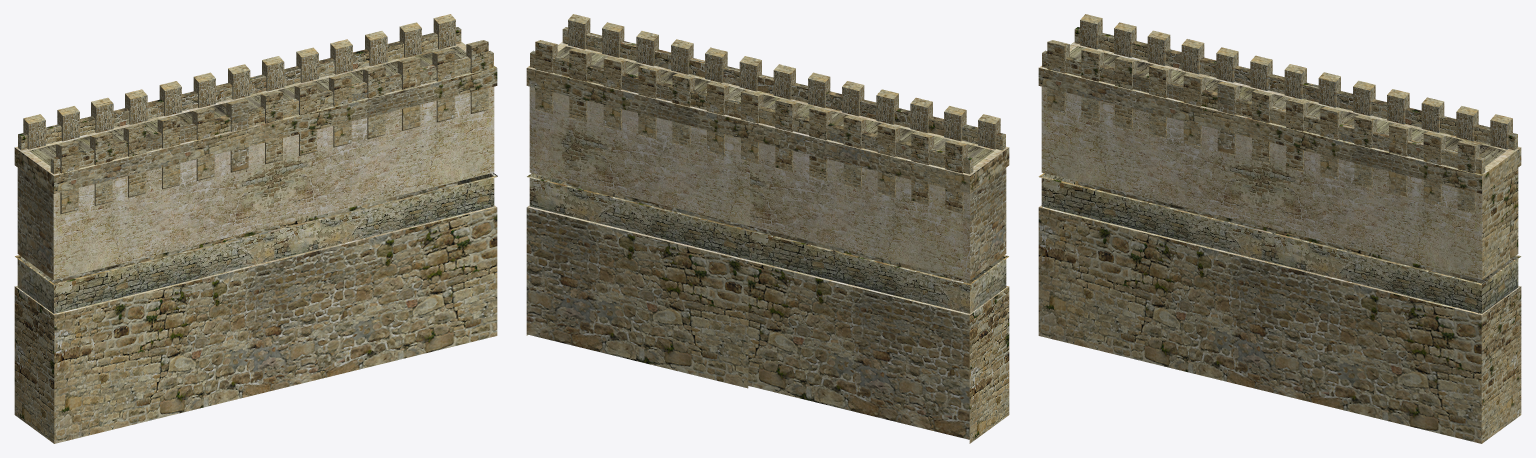
File: athen_wall_long.dae
3 renders of one model, left to right at view 1: azimuth 30°, elevation 25°; view 2: azimuth 150°, elevation 25°; view 3: azimuth 330°, elevation 25°, orthographic.
Parts seen in each view (by area): view 1: athen_wall_long; view 2: athen_wall_long; view 3: athen_wall_long.
Boxes of the visible parts, left/top/right/bottom form: athen_wall_long: left=14, top=14, right=497, bottom=443; athen_wall_long: left=526, top=14, right=1009, bottom=443; athen_wall_long: left=1038, top=14, right=1521, bottom=443.
Size of the model in its own units: 36.28 by 5.61 by 23.08.
